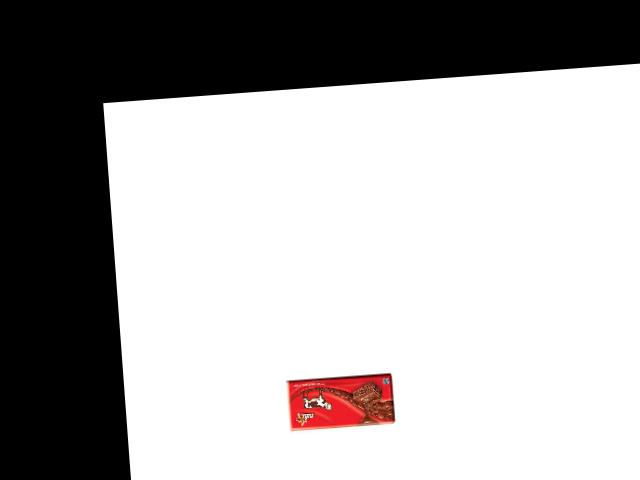chocolate: (296, 381, 399, 441)
